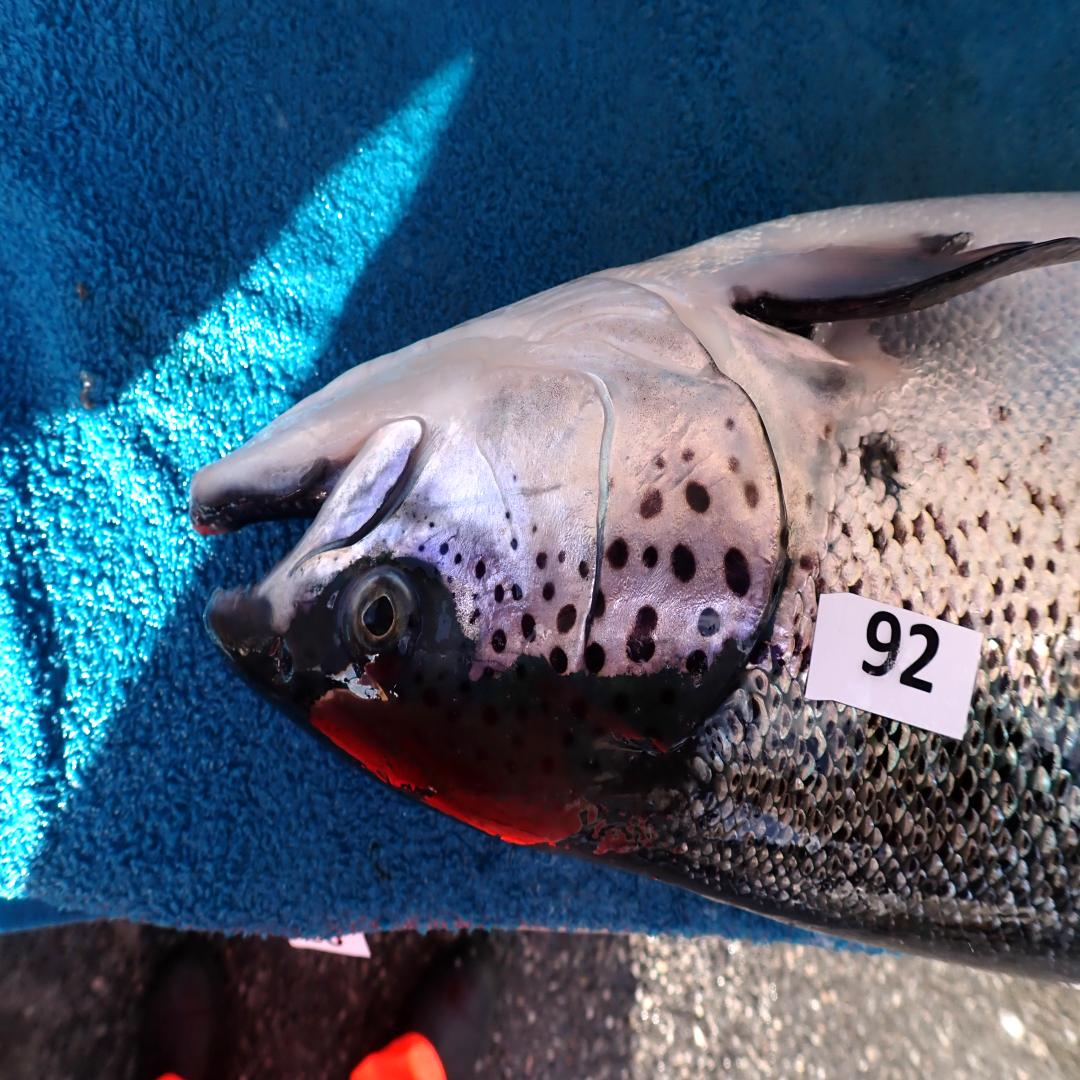roi: (427, 273, 787, 678)
